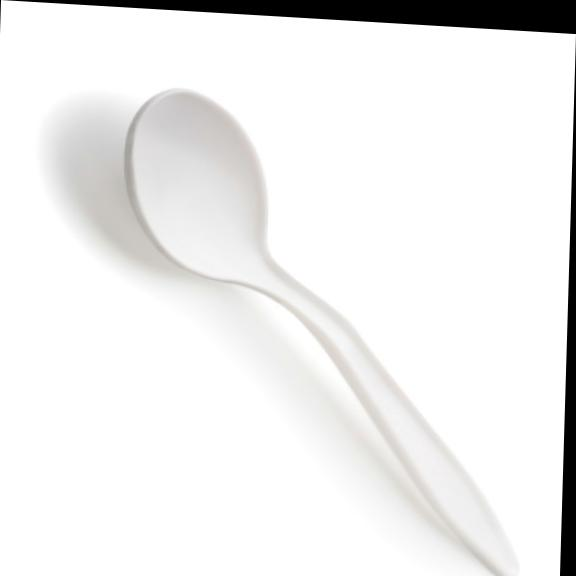Plastik: (125, 90, 517, 575)
